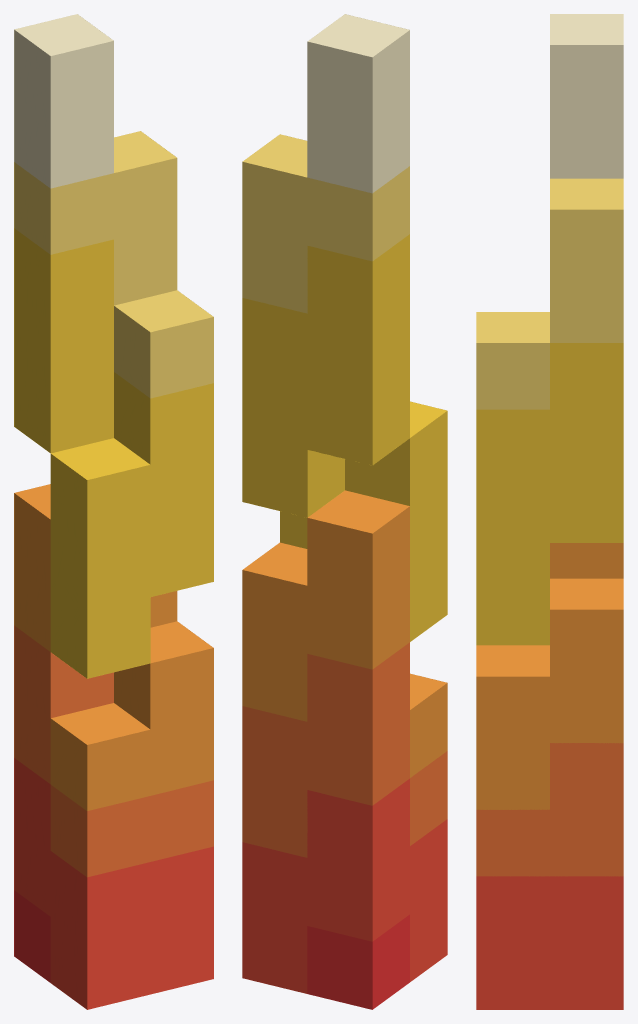
The model's file is MagmaLordVolcanoSpire.obj.
3 views of the same model, side by side, from view 1: azimuth 30°, elevation 25°; view 2: azimuth 150°, elevation 25°; view 3: azimuth 270°, elevation 25° (orthographic). The views are drawn at different scales.
Visible parts, largest first — view 1: MagmaLordVolcanoSpire; view 2: MagmaLordVolcanoSpire; view 3: MagmaLordVolcanoSpire.
Part boxes in pixels (box(x1,y1,x2,y2)): MagmaLordVolcanoSpire: box(14, 14, 213, 1009); MagmaLordVolcanoSpire: box(242, 14, 447, 1009); MagmaLordVolcanoSpire: box(476, 14, 623, 1009).
Size of the model in its own units: 2 by 14 by 2.
Materials: 1 (1 with a texture image).
